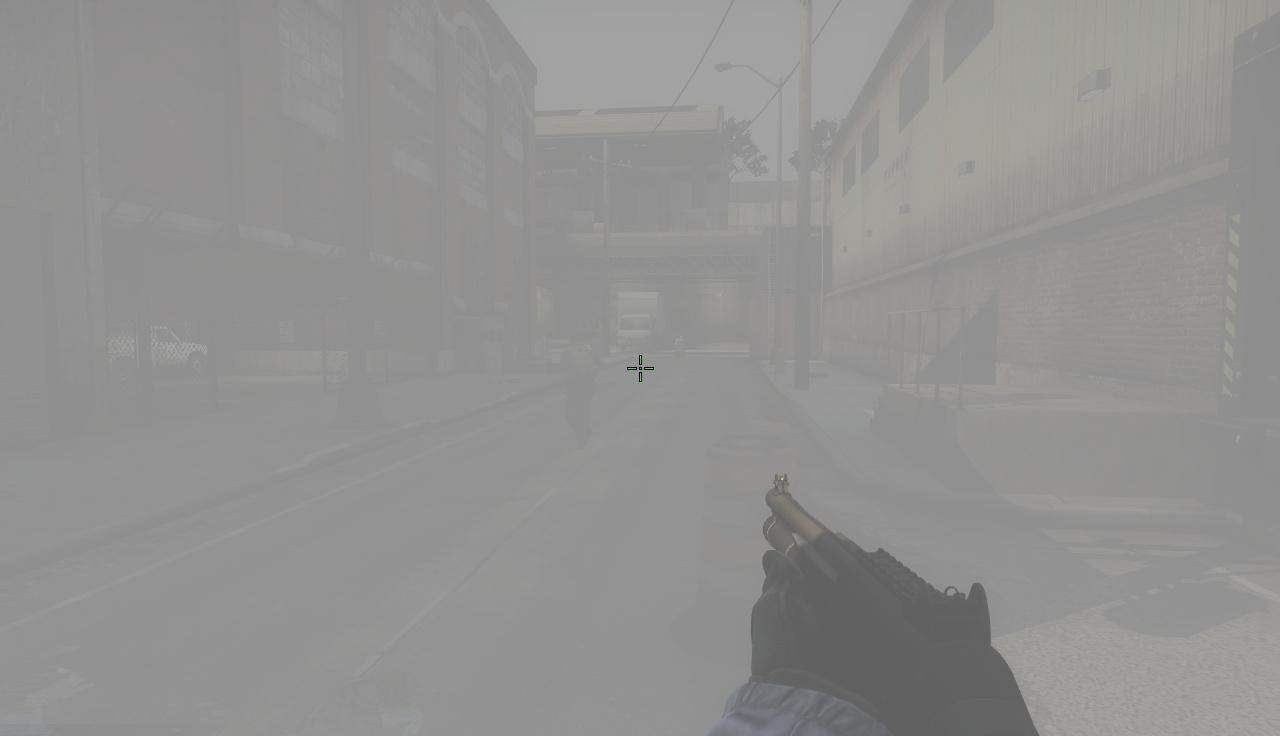shotgun: (761, 470, 1039, 736)
tt: (560, 334, 598, 449)
